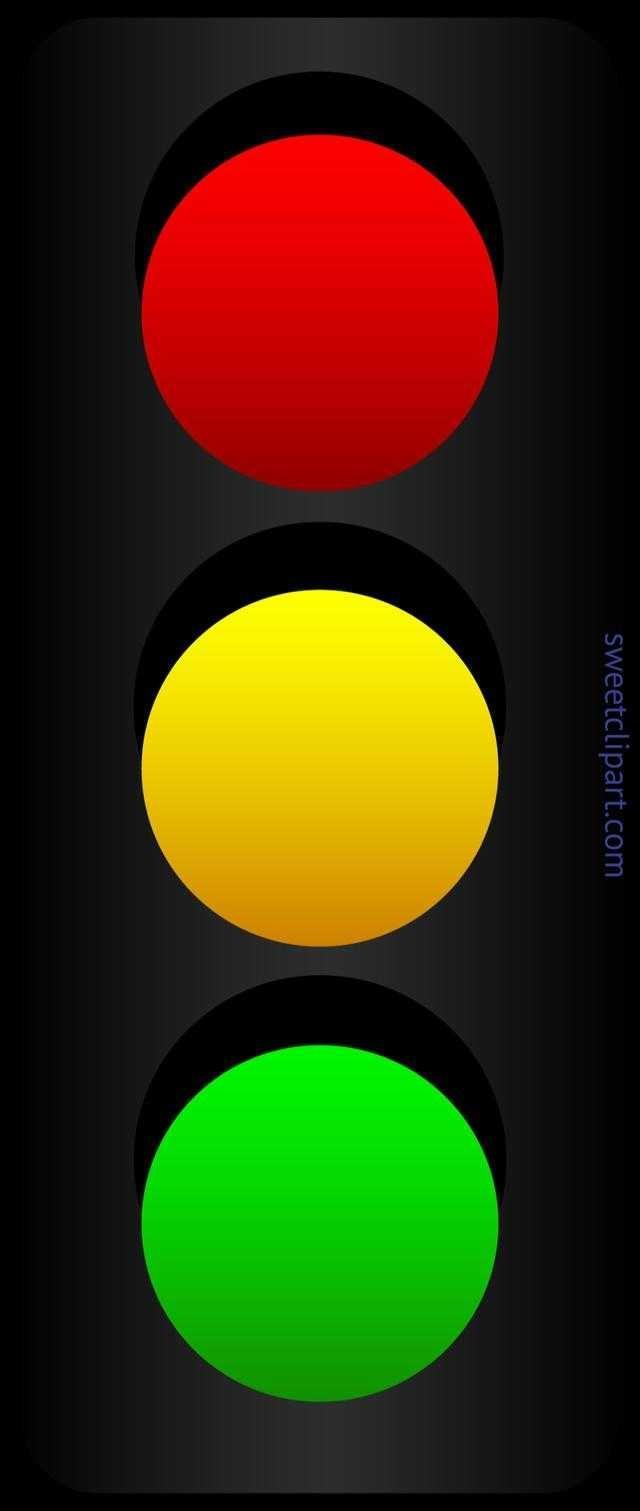5: (9, 4, 640, 530)
9: (1, 554, 640, 988)
red traffic light: (5, 1018, 640, 1511)
